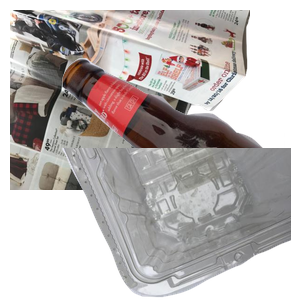glass: (60, 56, 300, 236)
paper: (10, 10, 250, 190)
plastic: (60, 148, 300, 300)
trash: (96, 181, 277, 300)
